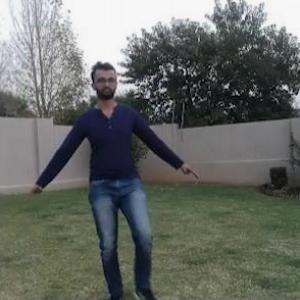land: (29, 59, 215, 285)
